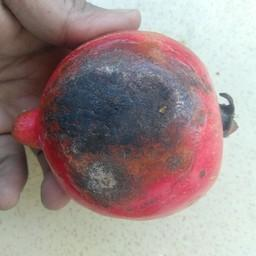Bad_pomegranate: (19, 32, 232, 224)
